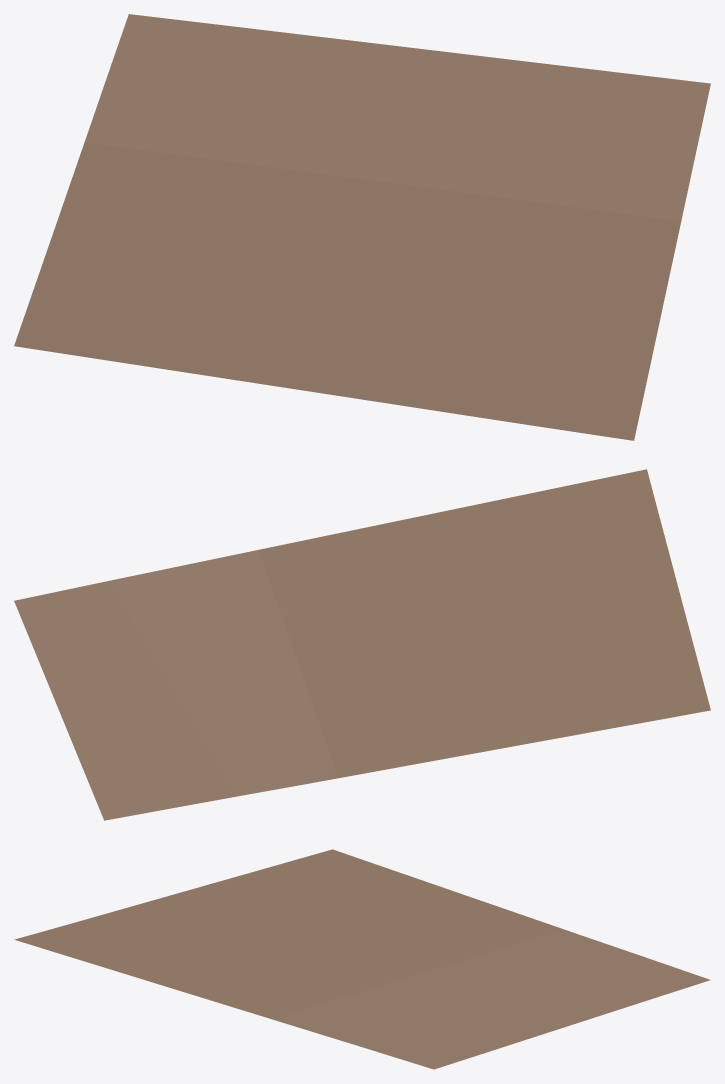
Rendered from farm_-8_2_soil.glb.
3 renders of one model, top to bottom at view 1: azimuth 30°, elevation 25°; view 2: azimuth 150°, elevation 25°; view 3: azimuth 270°, elevation 25°, orthographic. The views are drawn at different scales.
Parts seen in each view (by area): view 1: geometry_0; view 2: geometry_0; view 3: geometry_0.
Part boxes in pixels (x1,y1,x2,y2): geometry_0: (14,14,710,440); geometry_0: (14,469,710,820); geometry_0: (14,849,710,1069).
Bounding box in the file's own units: 45.51 × 1.48 × 59.5.
